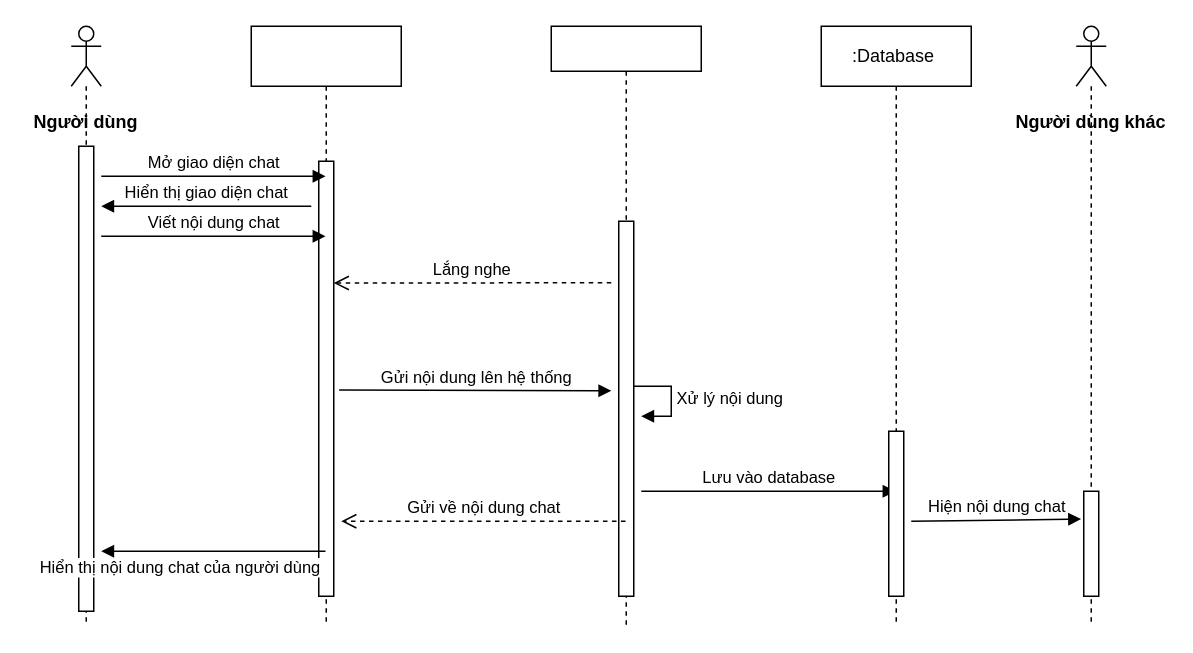
This 1193x653 diagram has some shape labels left out. The box of each missing label's shape, as (x1, y1, x2, y2) in pixels:
:Giao diện: (250, 25, 401, 626)
:Server: (550, 25, 701, 626)
